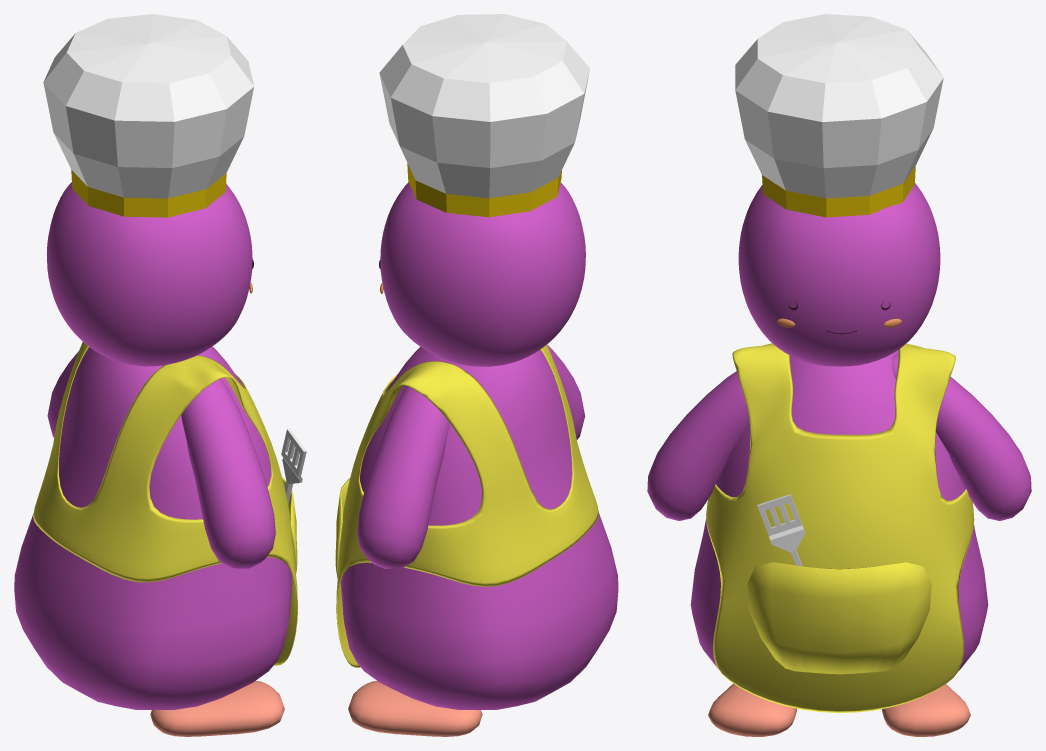
File: Karl.fbx
3 views of the same model, side by side, from view 1: azimuth 30°, elevation 25°; view 2: azimuth 150°, elevation 25°; view 3: azimuth 270°, elevation 25° (orthographic).
Parts seen in each view (by area): view 1: body, hT, head, apron, Arms, feet, spatula; view 2: body, hT, head, apron, Arms, feet, apronpouch; view 3: apron, hT, head, apronpouch, Arms, body, feet, spatula.
Boxes of the visible parts, left/top/right/bottom form: body: left=14, top=346, right=292, bottom=709; hT: left=43, top=14, right=254, bottom=217; head: left=46, top=182, right=252, bottom=366; apron: left=33, top=342, right=297, bottom=665; Arms: left=47, top=347, right=275, bottom=568; feet: left=150, top=681, right=284, bottom=736; spatula: left=281, top=428, right=306, bottom=504; body: left=340, top=347, right=618, bottom=709; hT: left=379, top=14, right=589, bottom=217; head: left=380, top=182, right=585, bottom=366; apron: left=336, top=345, right=598, bottom=667; Arms: left=357, top=344, right=585, bottom=568; feet: left=348, top=681, right=482, bottom=736; apronpouch: left=335, top=478, right=349, bottom=578; apron: left=706, top=343, right=974, bottom=712; hT: left=735, top=14, right=943, bottom=217; head: left=738, top=183, right=940, bottom=366; apronpouch: left=747, top=562, right=931, bottom=674; Arms: left=647, top=354, right=1031, bottom=520; body: left=690, top=350, right=988, bottom=670; feet: left=708, top=683, right=970, bottom=736; spatula: left=757, top=494, right=805, bottom=565.
Size of what is drawn, in the model's own units: 123 by 331 by 174.
